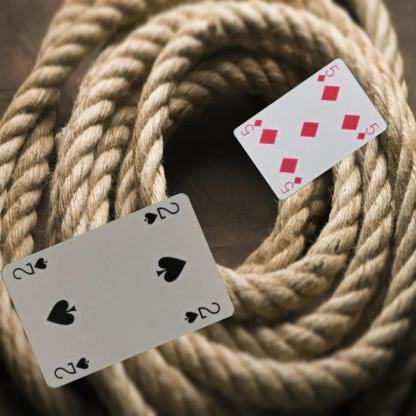2s: (141, 199, 181, 226), (51, 355, 91, 381)
5d: (277, 174, 303, 195), (314, 62, 340, 83)
